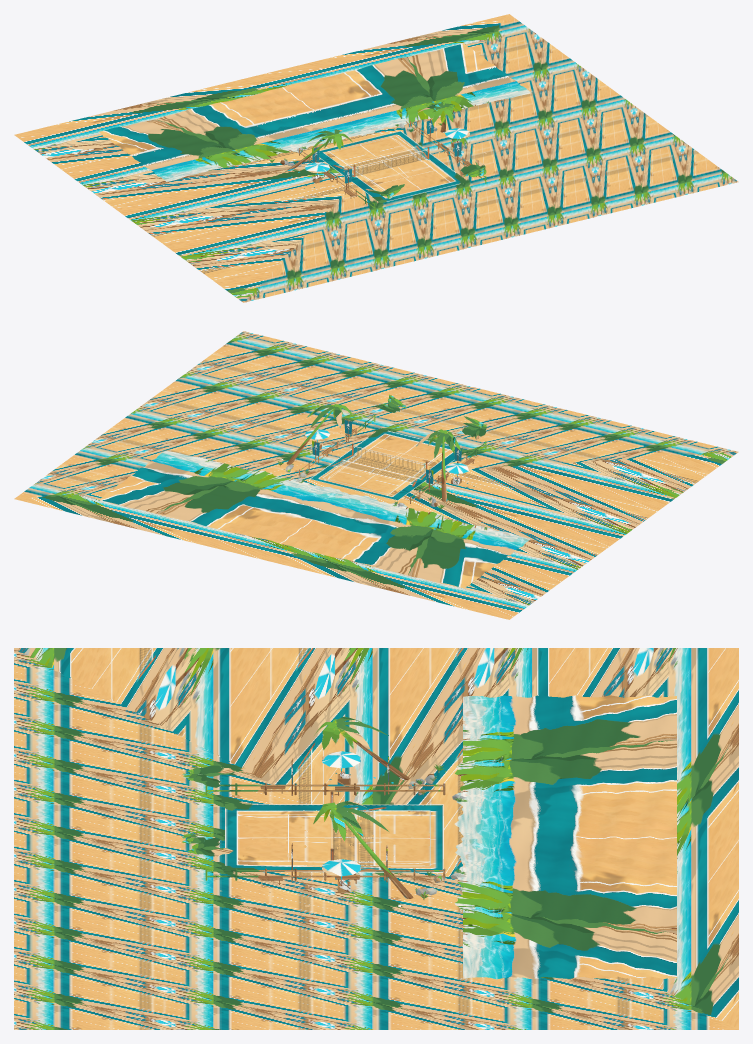
The model's file is beach-court.glb.
3 views of the same model, one above another, from view 1: azimuth 30°, elevation 25°; view 2: azimuth 150°, elevation 25°; view 3: azimuth 270°, elevation 25° (orthographic). The views are drawn at different scales.
Parts seen in each view (by area): view 1: BeachCourt_Baked3D; view 2: BeachCourt_Baked3D; view 3: BeachCourt_Baked3D.
Part boxes in pixels (bbox=[...]): BeachCourt_Baked3D: bbox=[14, 14, 738, 302]; BeachCourt_Baked3D: bbox=[14, 331, 738, 619]; BeachCourt_Baked3D: bbox=[14, 648, 738, 1029].
Bounding box in the file's own units: 76 × 6.97 × 61.
1 material, 1 textured.
